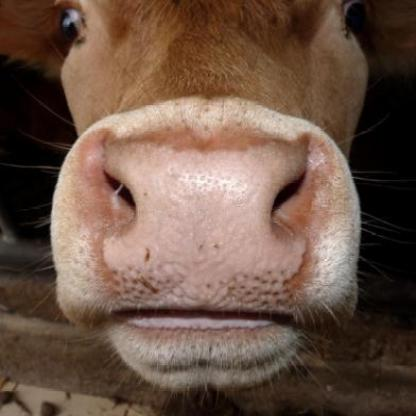lower: (177, 336, 229, 365)
mouth: (50, 95, 360, 384)
upper: (169, 187, 223, 231)
